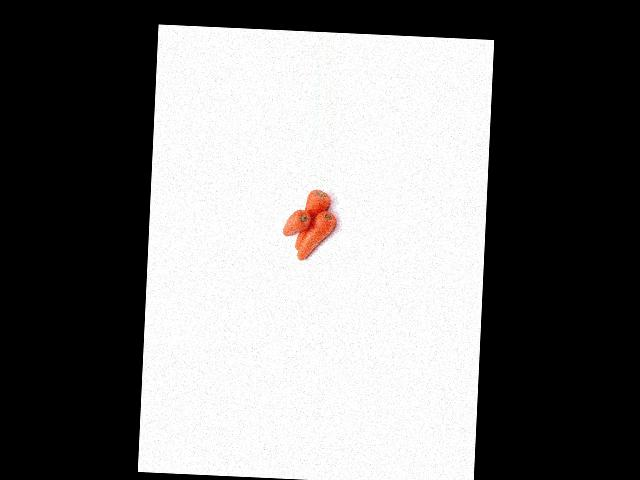carrot: (295, 189, 332, 253)
